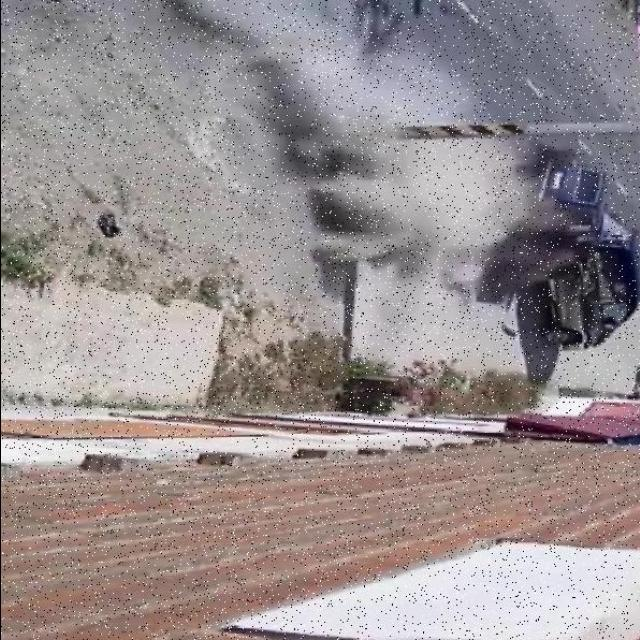accident: (519, 178, 640, 313)
